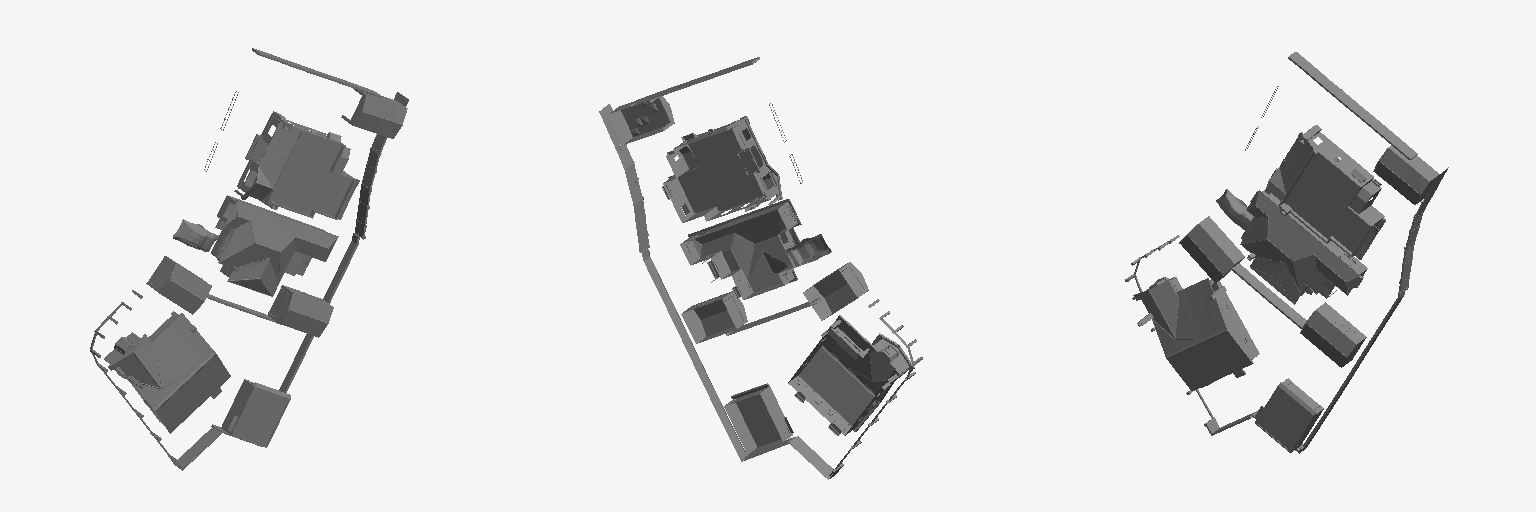
File: house_fra.obj
The picture shows the model from 3 angles: view 1: azimuth 30°, elevation 25°; view 2: azimuth 150°, elevation 25°; view 3: azimuth 330°, elevation 25°; orthographic projection.
Bounding box in the file's own units: 52.64 × 64.2 × 8.12.